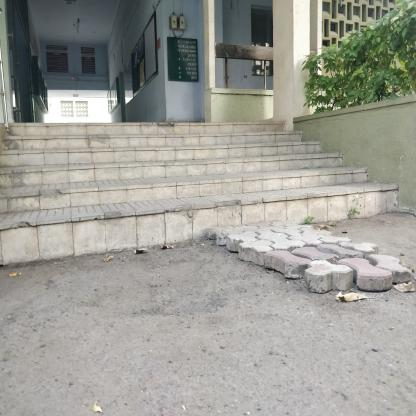stairs: (61, 126, 279, 266)
